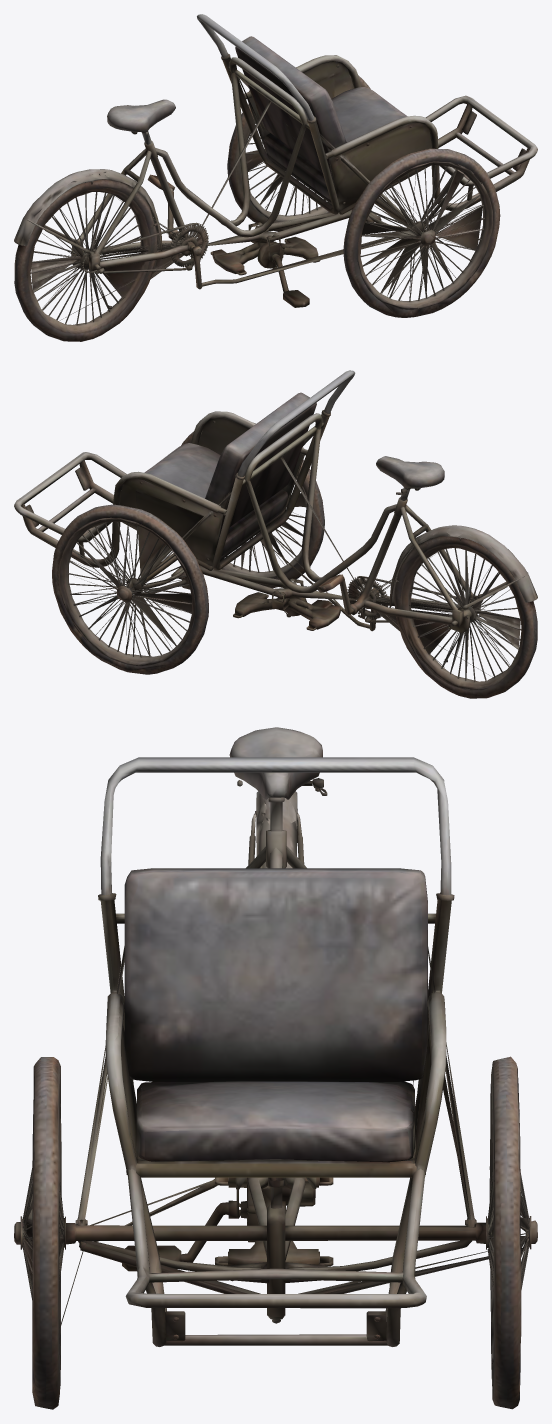
File: xichlo.glb
3 renders of one model, top to bottom at view 1: azimuth 30°, elevation 25°; view 2: azimuth 150°, elevation 25°; view 3: azimuth 270°, elevation 25°, orthographic. The views are drawn at different scales.
Visible parts, largest first — view 1: tripo_node_b345c457-37c8-4698-8356-d8f128611346; view 2: tripo_node_b345c457-37c8-4698-8356-d8f128611346; view 3: tripo_node_b345c457-37c8-4698-8356-d8f128611346.
Boxes of the visible parts, box(x1,y1,x2,y2) form: tripo_node_b345c457-37c8-4698-8356-d8f128611346: box(14, 14, 537, 341); tripo_node_b345c457-37c8-4698-8356-d8f128611346: box(14, 370, 537, 698); tripo_node_b345c457-37c8-4698-8356-d8f128611346: box(14, 727, 537, 1409).
Size of the model in its own units: 0.9985 by 0.5107 by 0.4722.
1 material, 1 textured.
